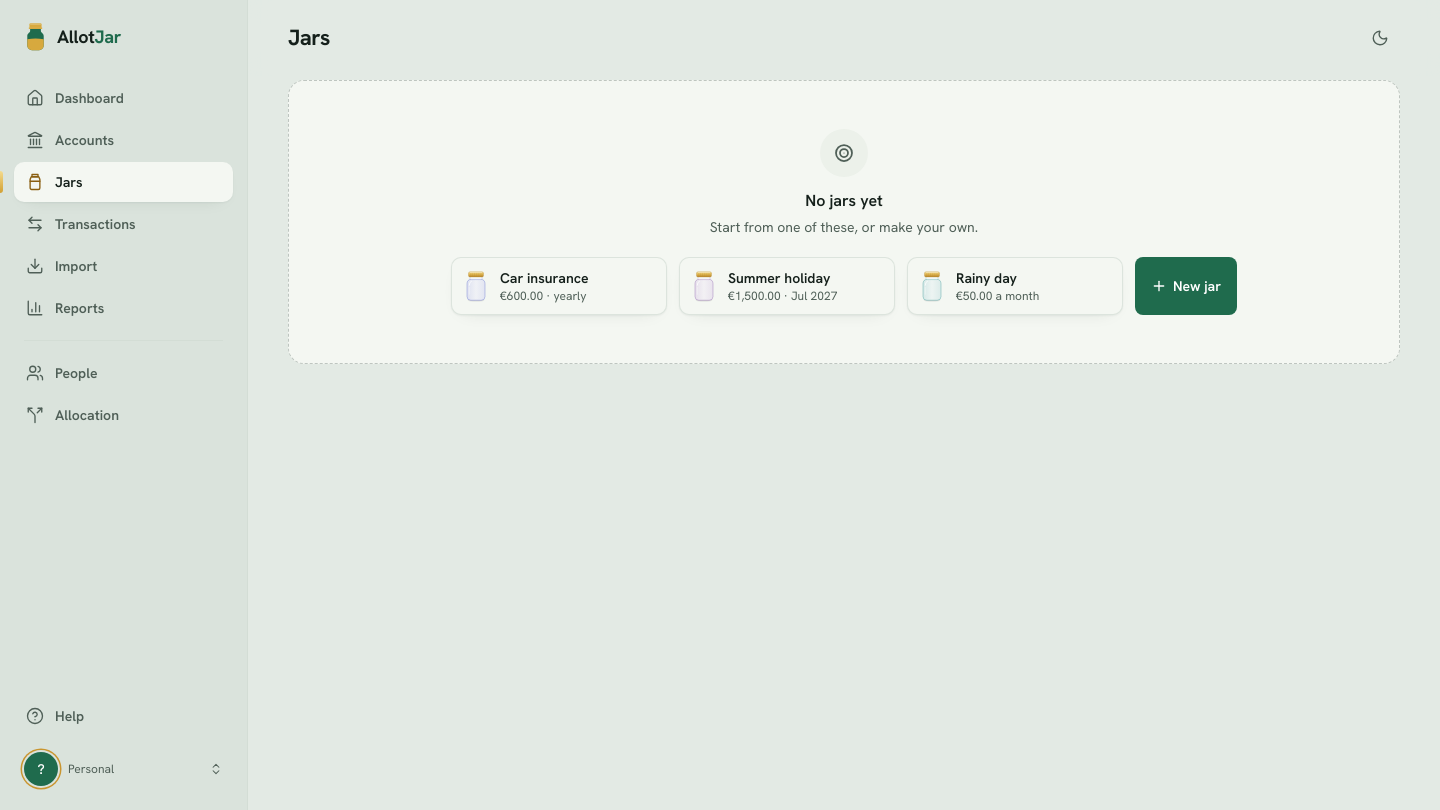
JarsPage — catalog supplemental (JAR) › JAR-016: a plan with a single month reads "€300.00 in Nov 2026"
The image size is (1440, 810).
Click the button "New jar" at (1186, 286), box [1135, 257, 1237, 315]
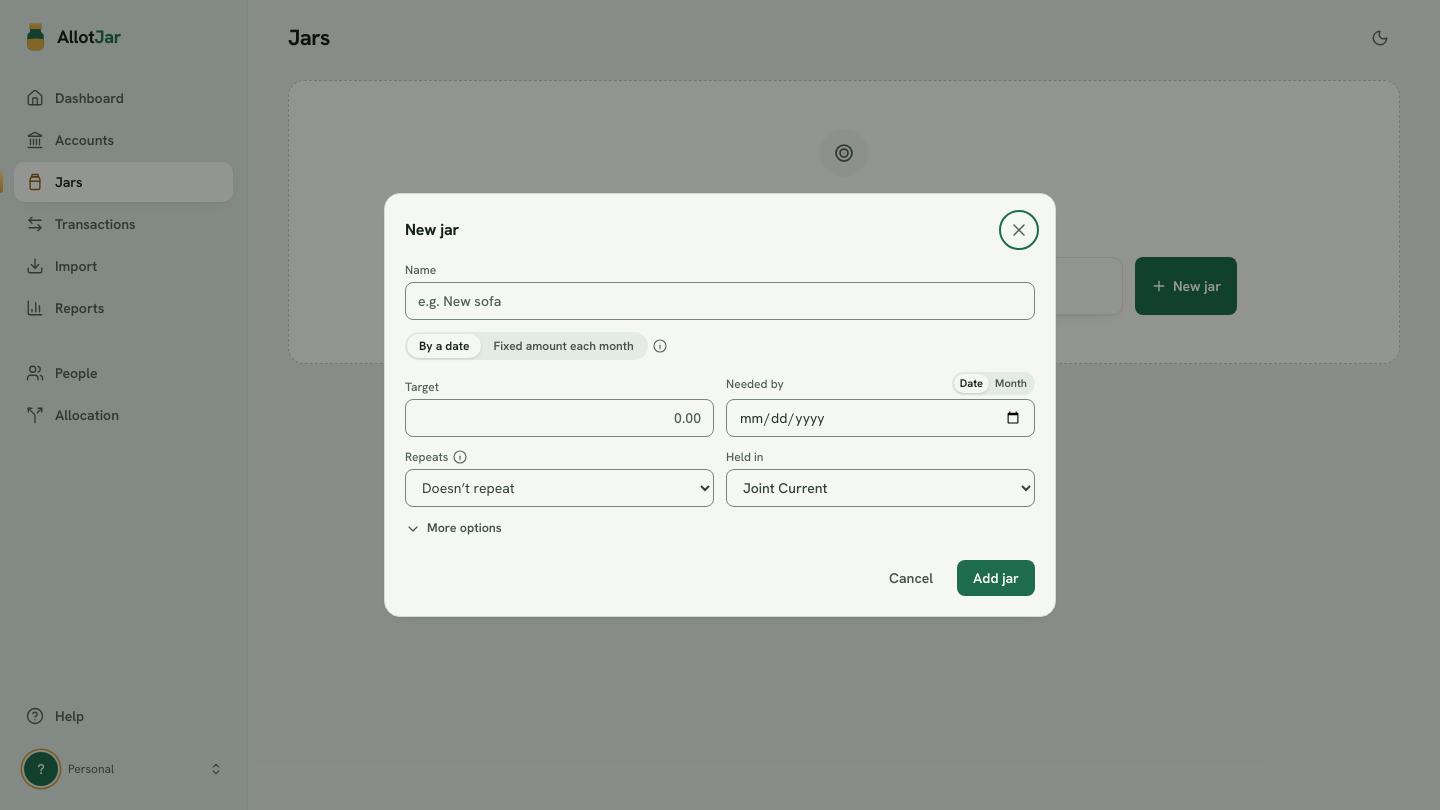
Type "300" into the field named "Target amount" at (560, 418), box [405, 399, 714, 437]
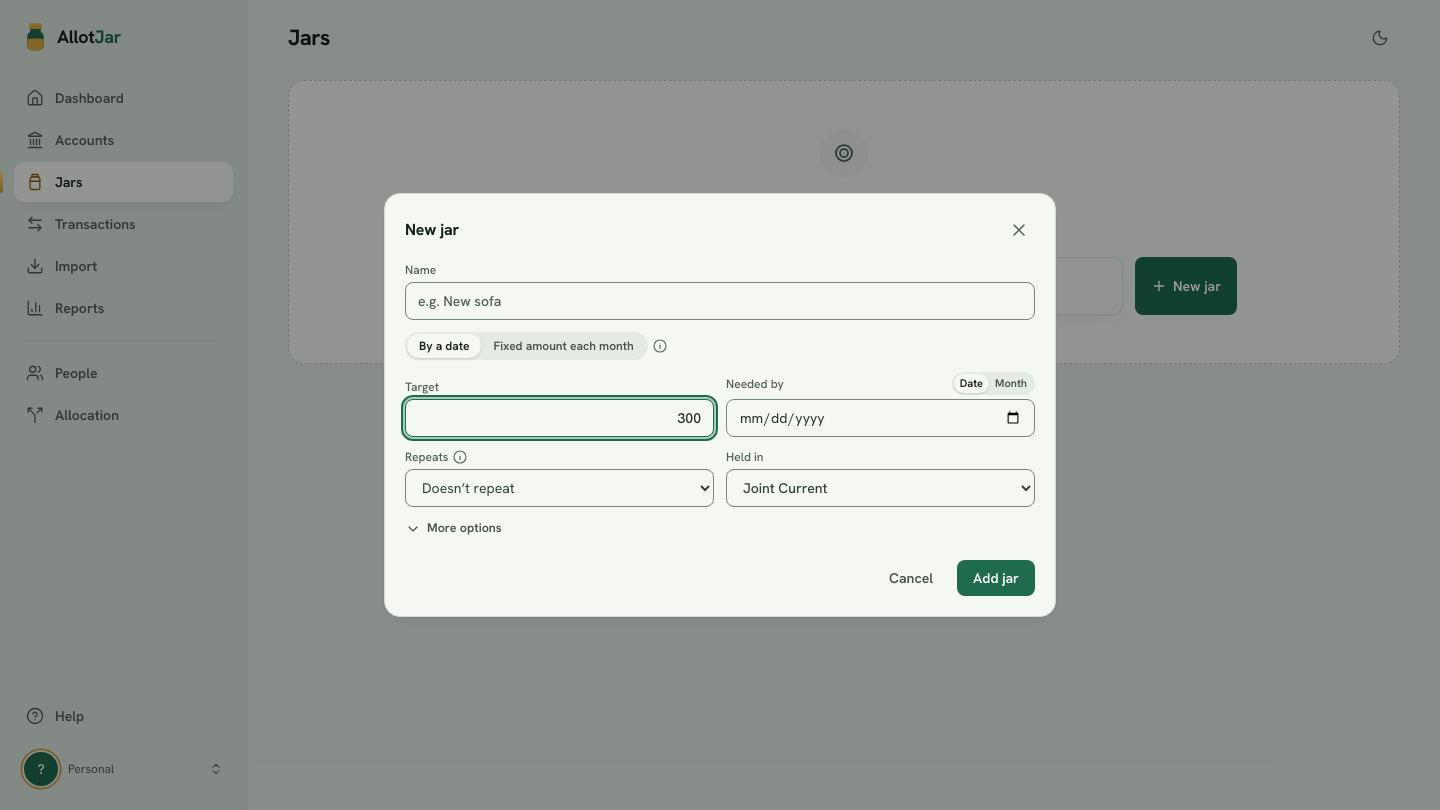
Type "2026-12-01" into the date field named "Needed by" at (880, 418), box [726, 399, 1035, 437]
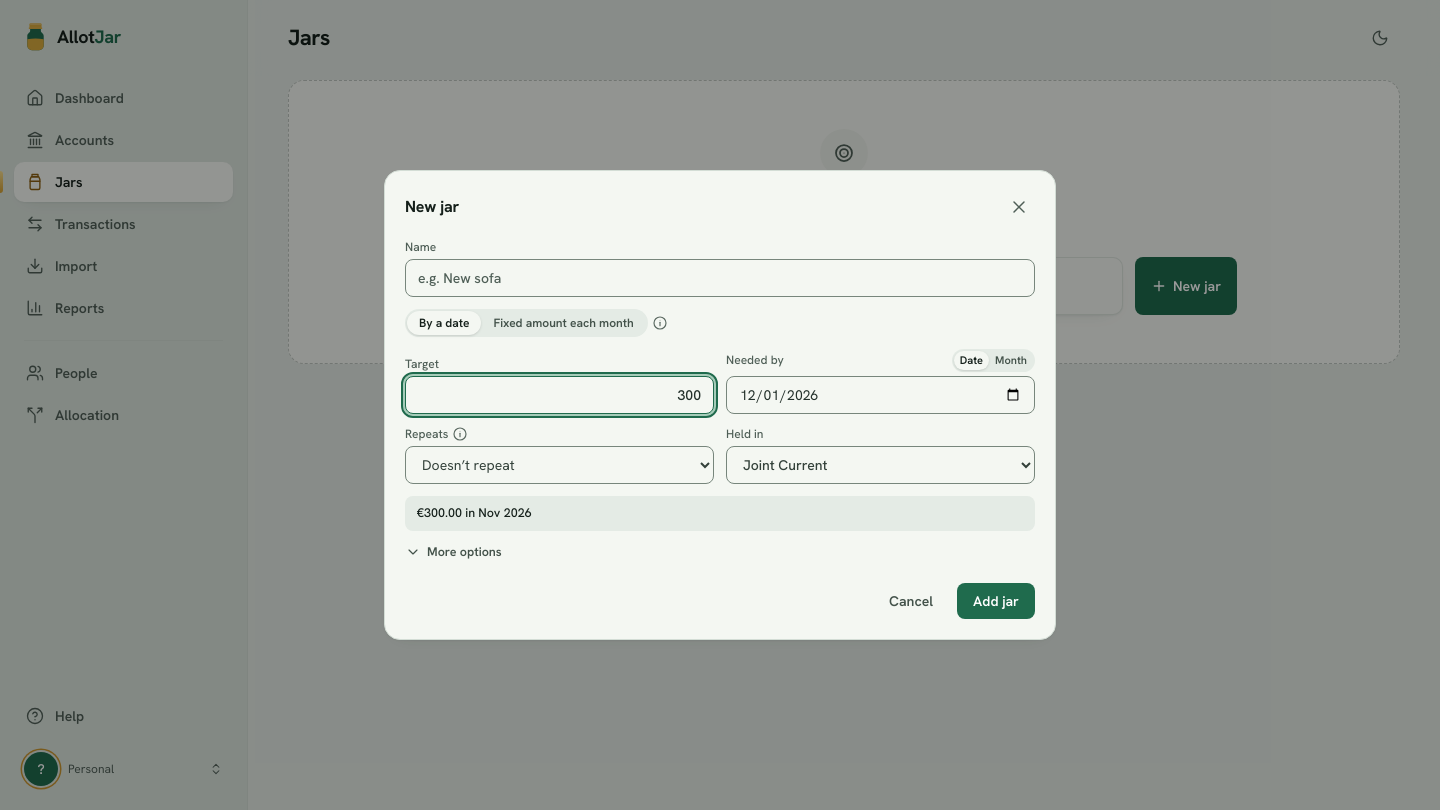
Check: the element with test id "jar-schedule-preview" reads "€300.00 in Nov 2026", box [417, 504, 532, 521]
